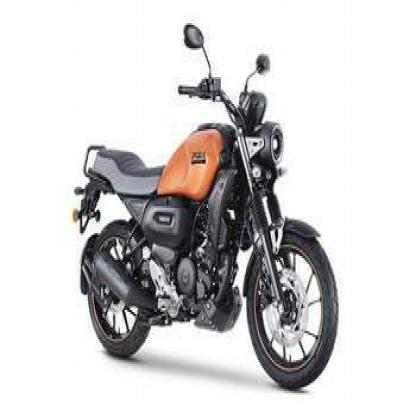Motorcycle: (72, 20, 339, 393)
